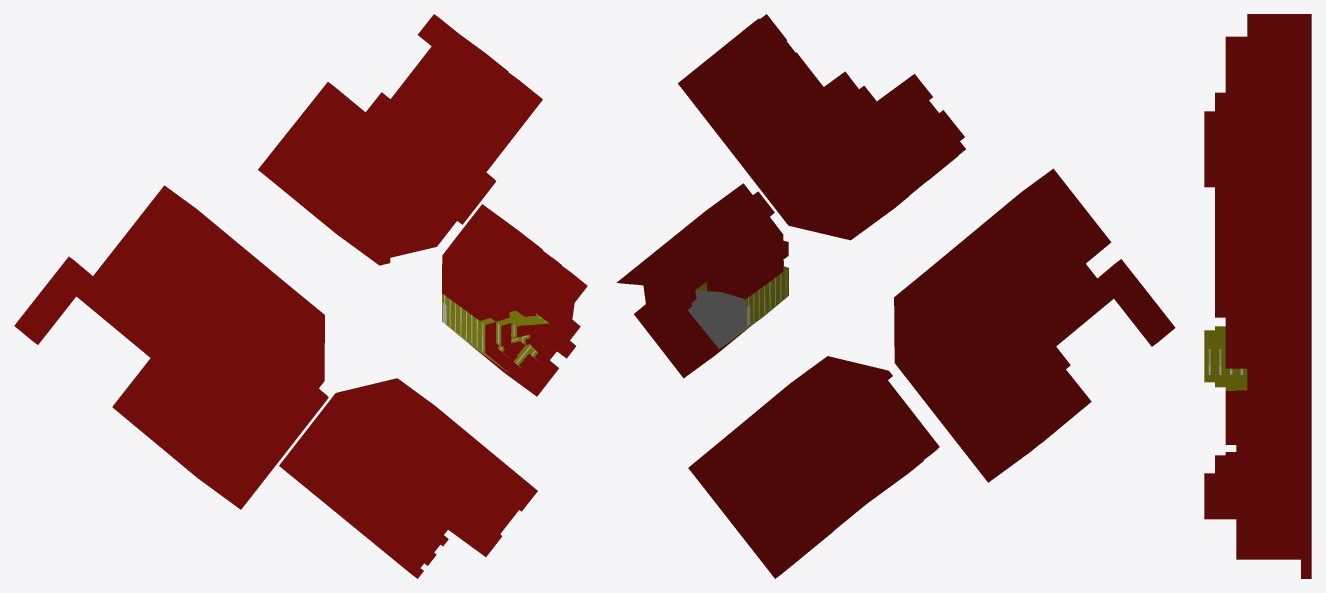
File: test-zones.obj
3 views of the same model, side by side, from view 1: azimuth 30°, elevation 25°; view 2: azimuth 150°, elevation 25°; view 3: azimuth 270°, elevation 25° (orthographic).
Bounding box in the file's own units: 178 × 169 × 30.
